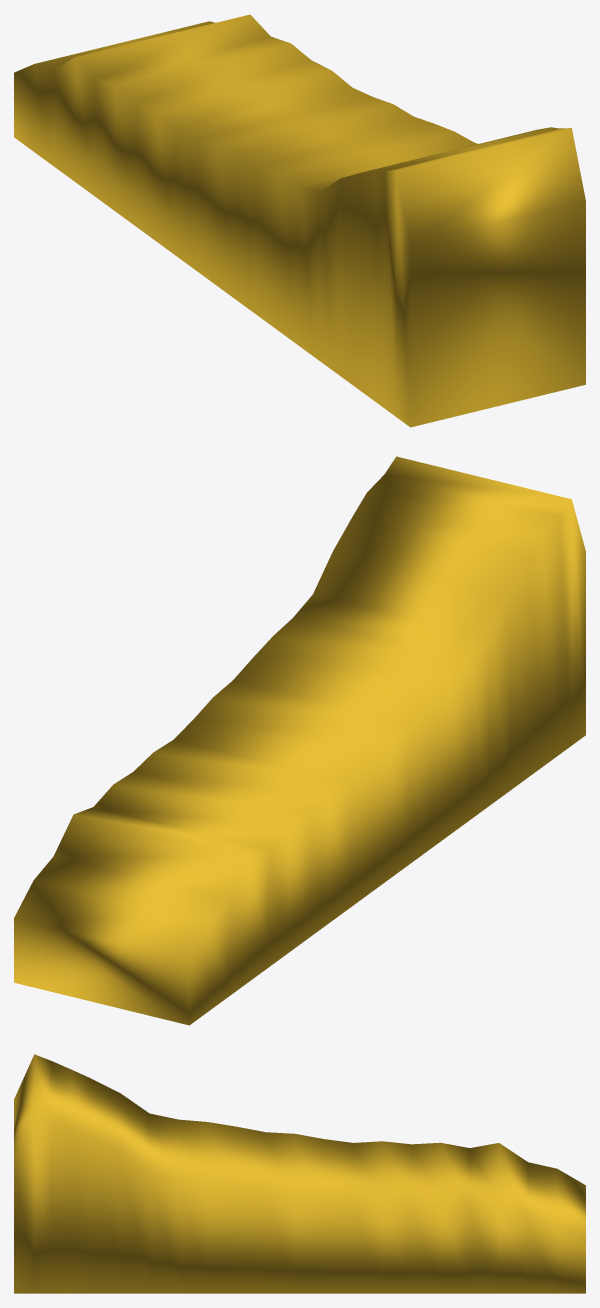
The model's file is sandlayer.fbx.
The picture shows the model from 3 angles, top to bottom: view 1: azimuth 30°, elevation 25°; view 2: azimuth 150°, elevation 25°; view 3: azimuth 270°, elevation 25°; orthographic projection. The views are drawn at different scales.
Visible parts, largest first — view 1: Cube; view 2: Cube; view 3: Cube.
Boxes of the visible parts, <box> form: Cube: <box>14,14,585,427</box>; Cube: <box>14,456,585,1025</box>; Cube: <box>14,1054,585,1293</box>.
Bounding box in the file's own units: 205 × 268 × 783.
